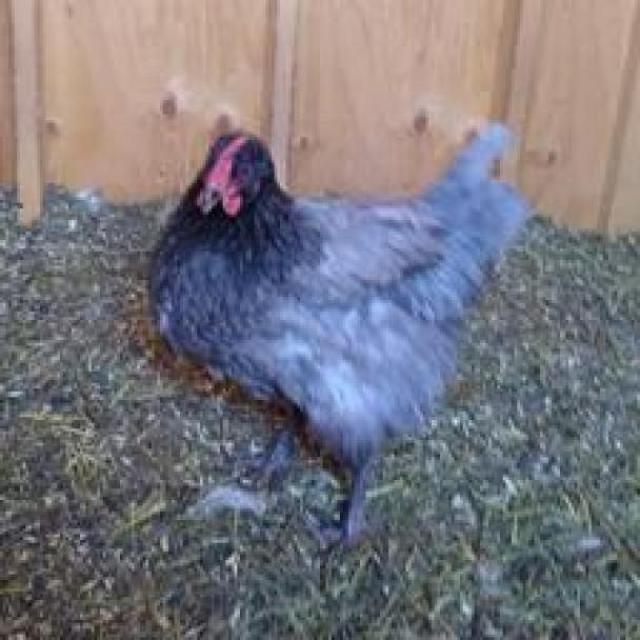Chicken: (129, 85, 558, 582)
